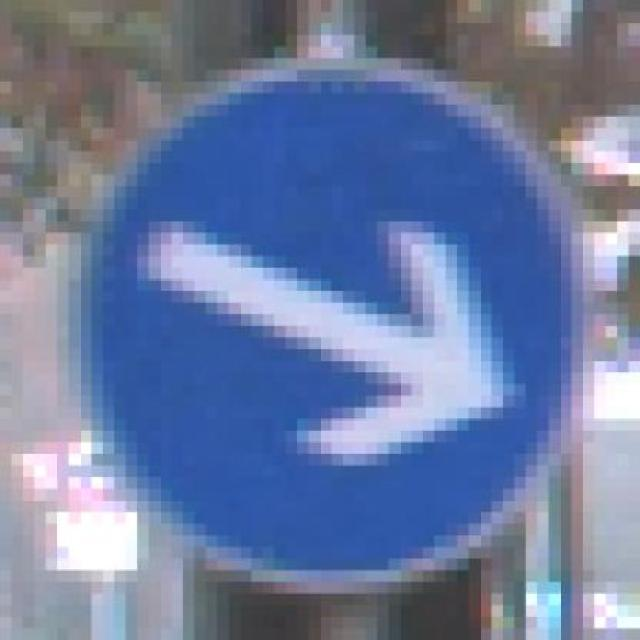Keep-Right: (45, 46, 618, 617)
